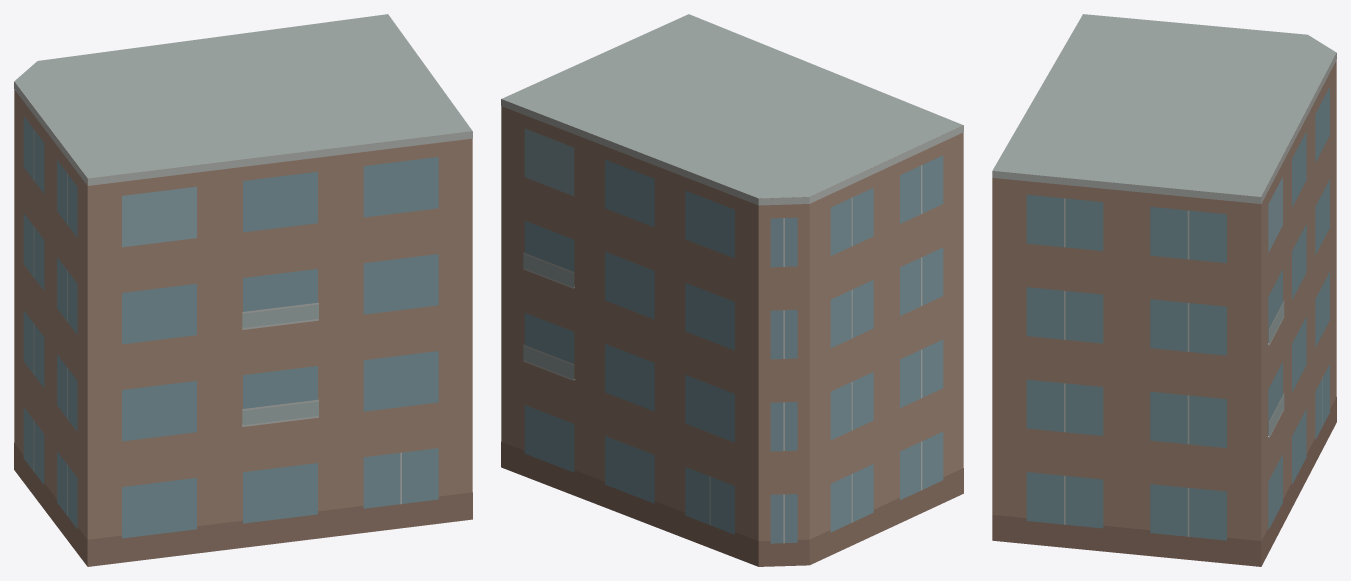
Rendered from survey-upis-32667464.glb.
3 views of the same model, side by side, from view 1: azimuth 30°, elevation 25°; view 2: azimuth 150°, elevation 25°; view 3: azimuth 270°, elevation 25° (orthographic). The views are drawn at different scales.
Visible parts, largest first — view 1: survey-upis-32667464.tmp; view 2: survey-upis-32667464.tmp; view 3: survey-upis-32667464.tmp.
Boxes of the visible parts, x1,y1,x2,y2 form: survey-upis-32667464.tmp: (14, 14, 472, 566); survey-upis-32667464.tmp: (501, 14, 963, 566); survey-upis-32667464.tmp: (992, 14, 1336, 566).
Size of the model in its own units: 13.6 by 12.8 by 10.82.
